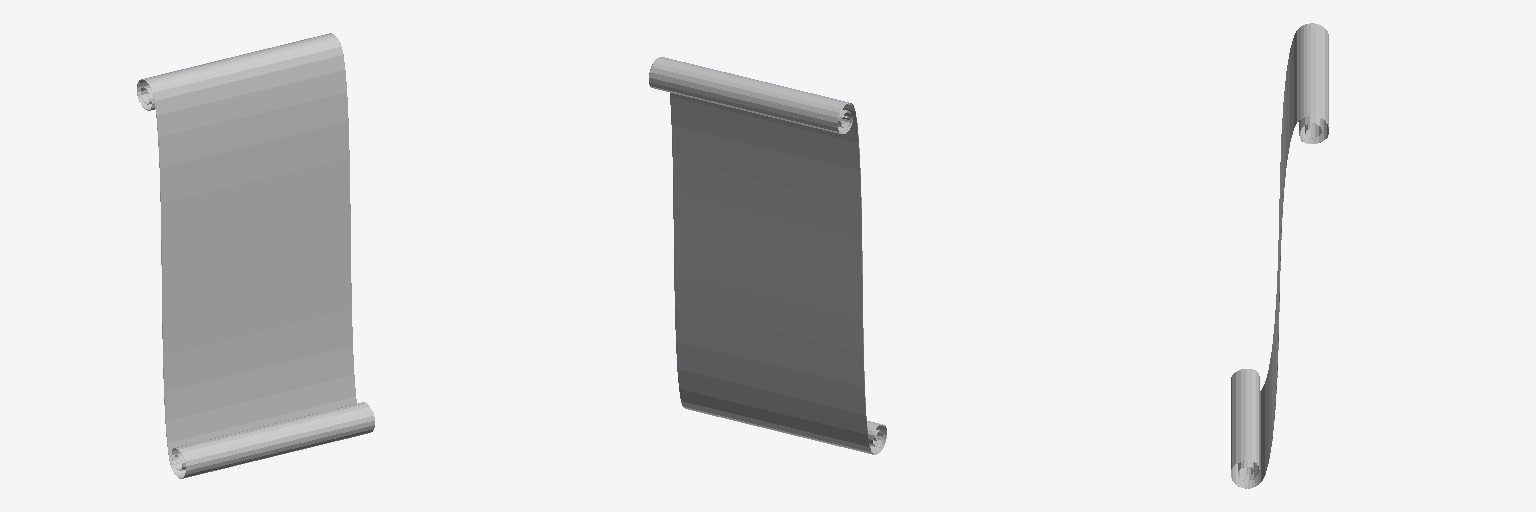
Rendered from scroll-lowpoly.obj.
3 renders of one model, left to right at view 1: azimuth 30°, elevation 25°; view 2: azimuth 150°, elevation 25°; view 3: azimuth 270°, elevation 25°, orthographic.
Visible parts, largest first — view 1: Shape001; view 2: Shape001; view 3: Shape001.
Boxes of the visible parts, x1=… form: Shape001: x1=137, y1=33, x2=374, y2=478; Shape001: x1=649, y1=57, x2=886, y2=454; Shape001: x1=1231, y1=23, x2=1328, y2=488.
Size of the model in its own units: 8.16 by 15.39 by 3.69.